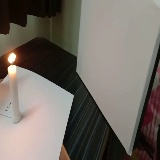fire: (9, 51, 16, 65)
